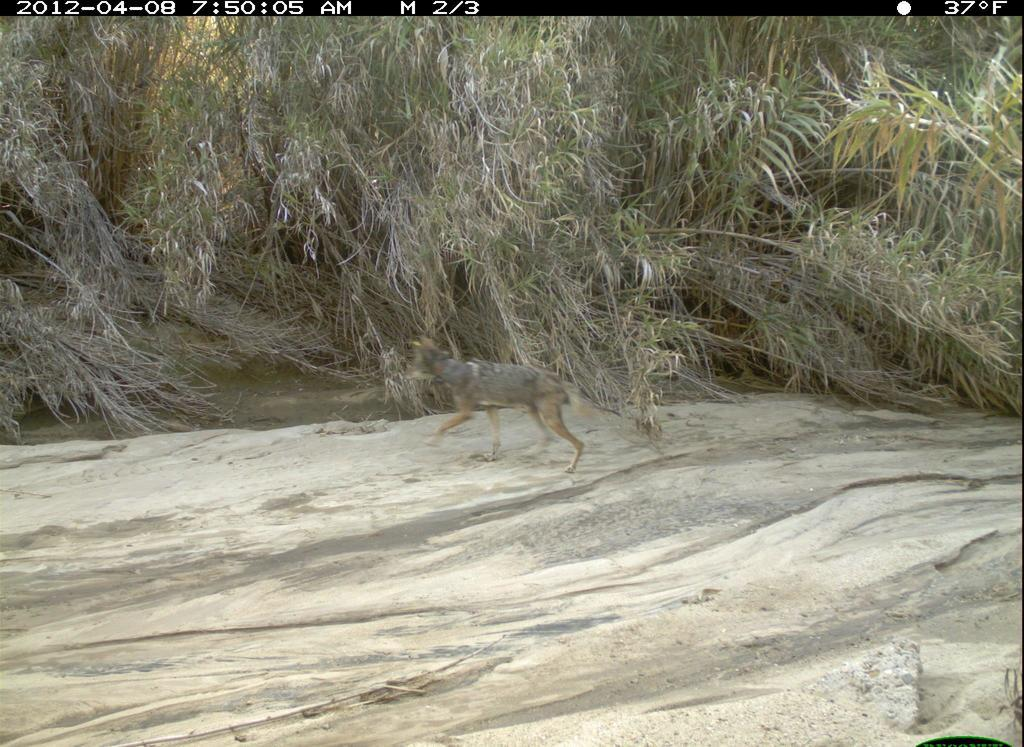coyote: (401, 335, 597, 477)
